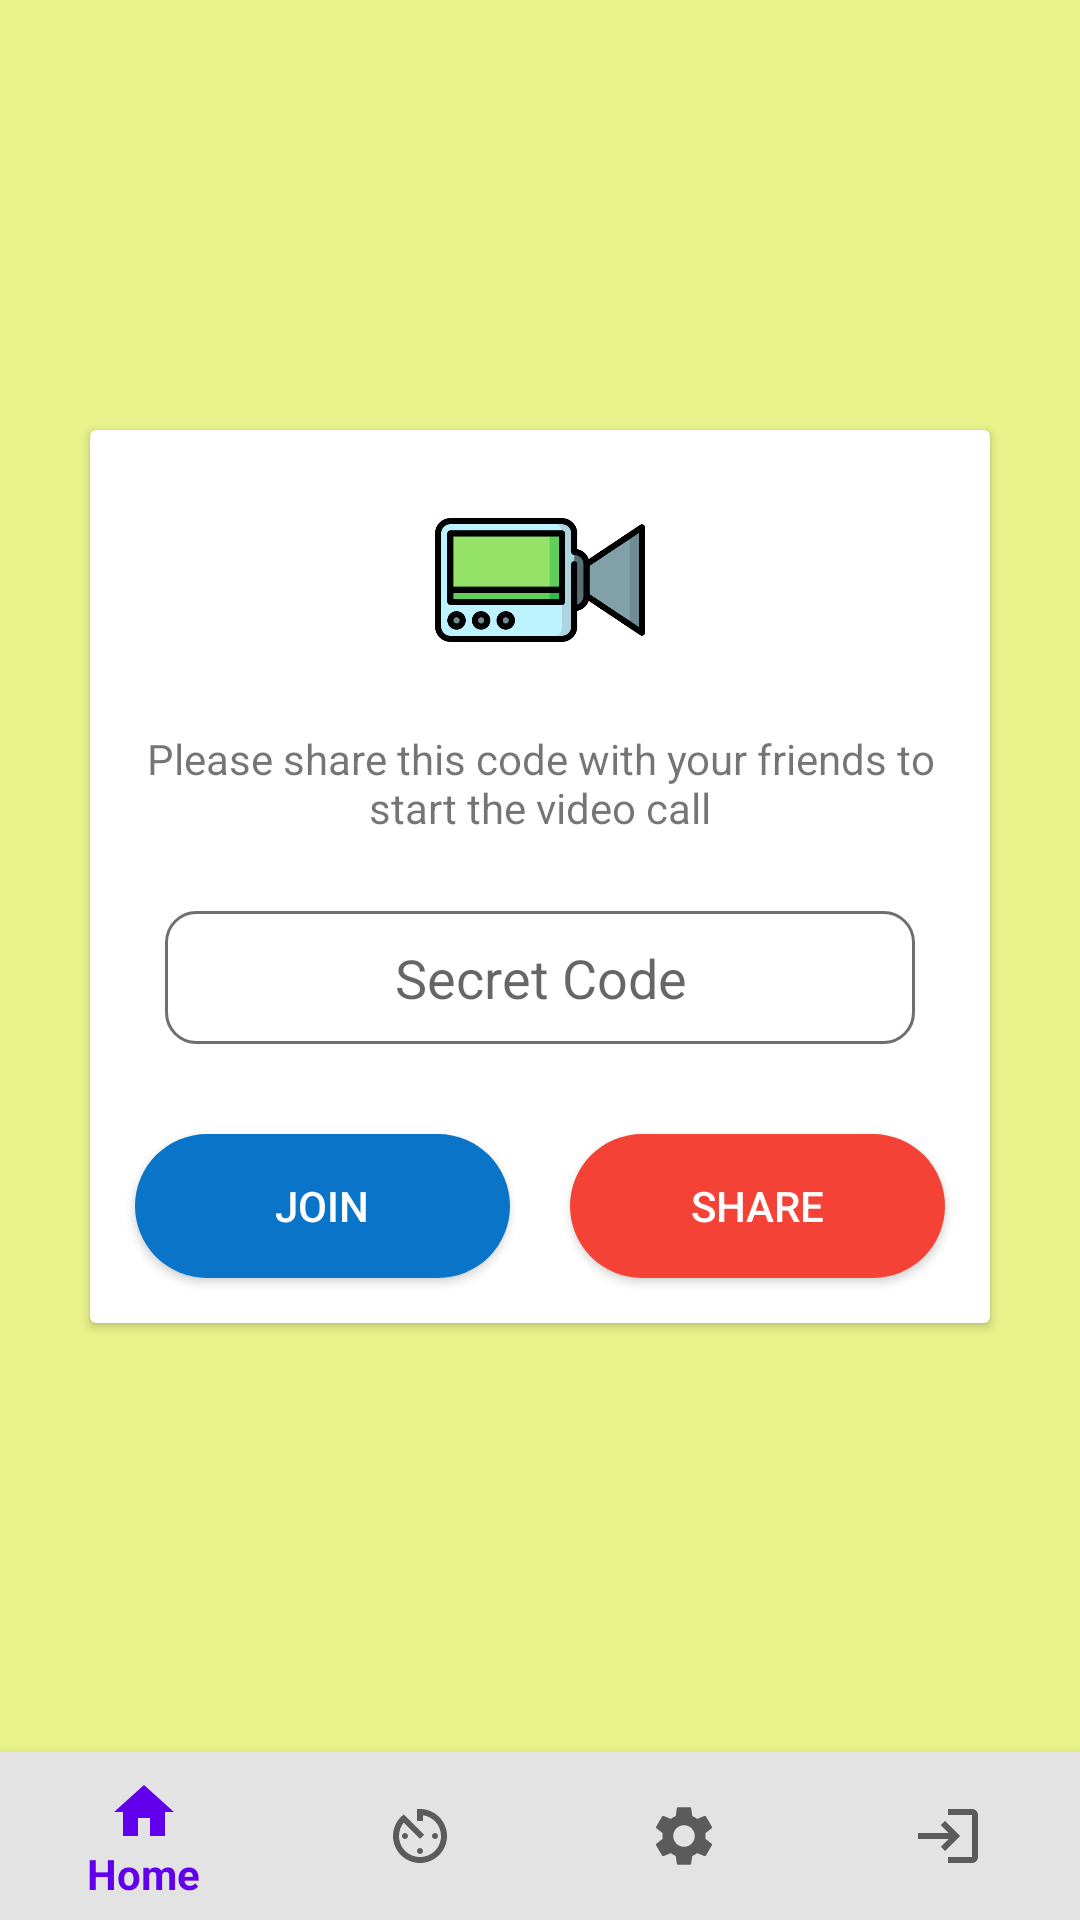

Icon click points for this 1080 × 1920 phone screenshot, format [x,y]:
meeting: [540,580]
